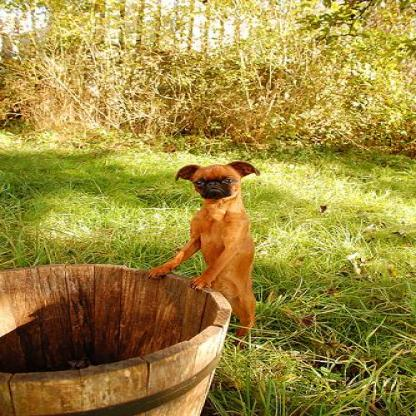Brabancon_griffon: (146, 160, 262, 342)
